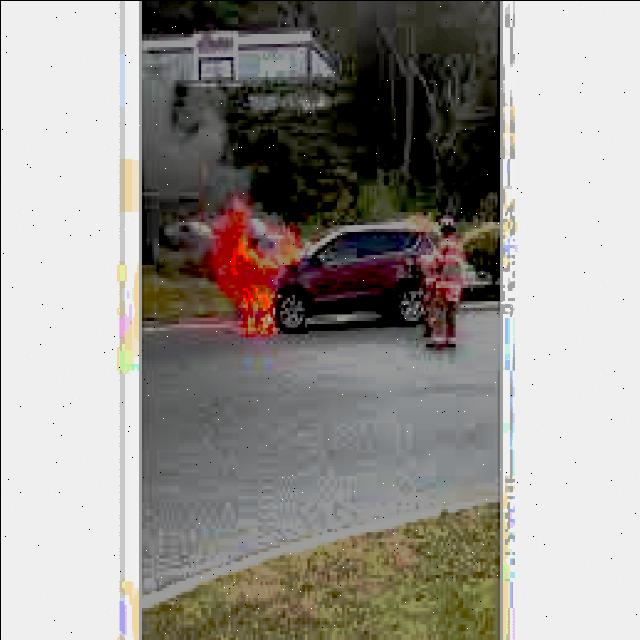api: (204, 196, 313, 341)
